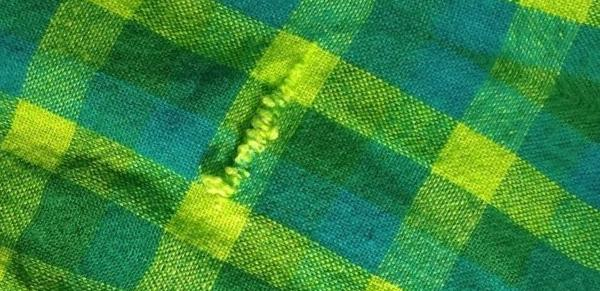knot: (197, 32, 325, 202)
